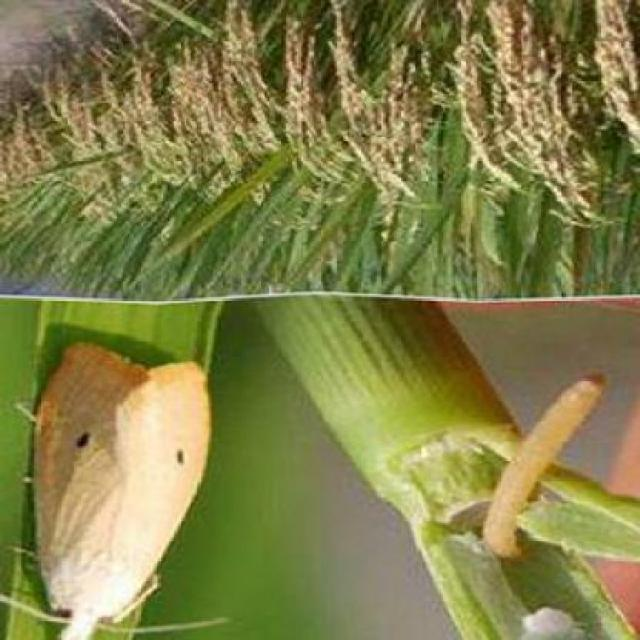stem-borer: (0, 337, 218, 640)
